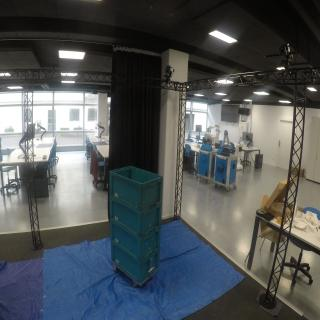BoxB4: (111, 166, 164, 213), (110, 198, 163, 240), (111, 241, 161, 285), (110, 220, 161, 262)
